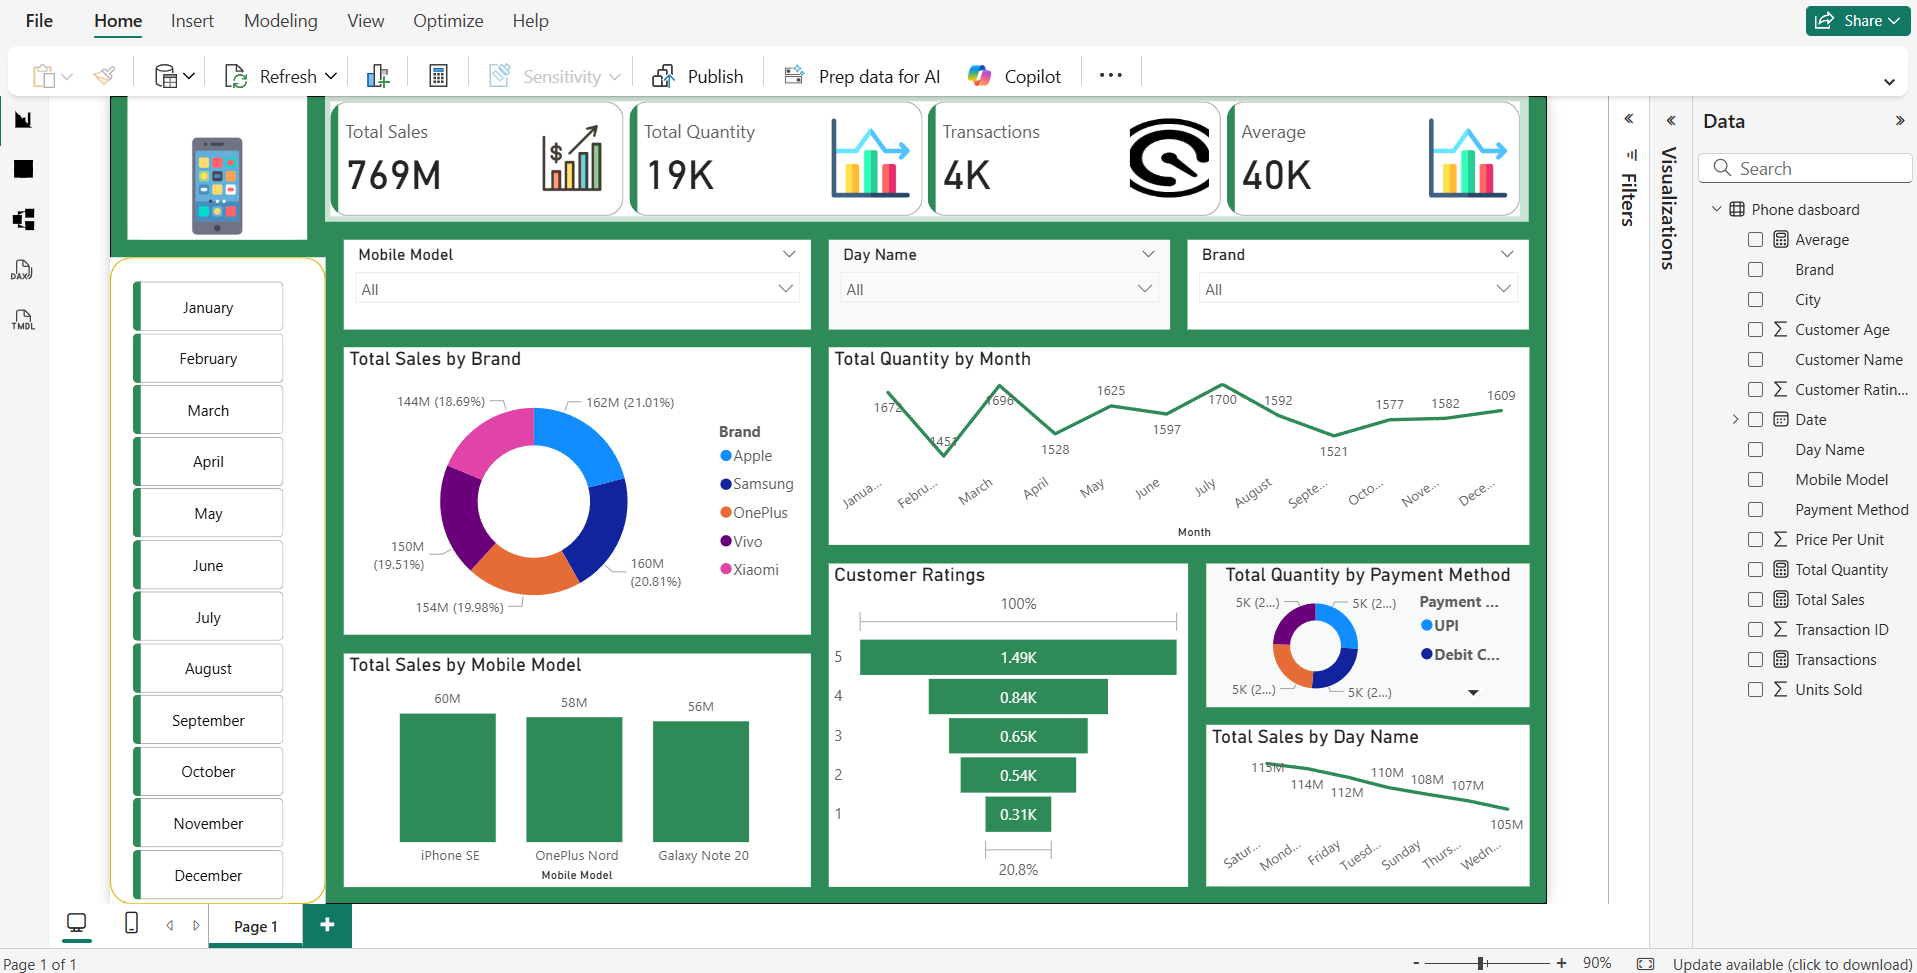

The page's visual inventory and layout, read from the dashboard file:
{"tool":"powerbi","page":{"name":"Page 1","canvas":[1280,720],"ordinal":0},"visuals":[{"type":"shape","box":[0,144,192,576],"z":0},{"type":"advancedSlicerVisual","fields":{"Values":["Phone dasboard.Date .Variation.Date Hierarchy.Month"]},"box":[16,160,144,560],"z":2000},{"type":"cardVisual","fields":{"Data":["Phone dasboard.Total Sales","Phone dasboard.Total Quantity","Phone dasboard.Transactions","Phone dasboard.Average"]},"box":[192,0,1072,112],"z":3000},{"type":"donutChart","fields":{"Category":["Phone dasboard.Brand"],"Y":["Phone dasboard.Total Sales"]},"box":[208,224,416,256],"z":4000},{"type":"lineChart","fields":{"Category":["Phone dasboard.Date .Variation.Date Hierarchy.Month","Phone dasboard.Date .Variation.Date Hierarchy.Day"],"Y":["Phone dasboard.Total Quantity"]},"box":[640,224,624,176],"z":5000},{"type":"columnChart","fields":{"Y":["Phone dasboard.Total Sales"],"Category":["Phone dasboard.Mobile Model"]},"box":[208,496,416,208],"z":6000},{"type":"donutChart","fields":{"Y":["Phone dasboard.Total Quantity"],"Category":["Phone dasboard.Payment Method"]},"box":[976,416,288,128],"z":7000},{"type":"funnel","title":"Customer Ratings","fields":{"Category":["Phone dasboard.Customer Ratings"],"Y":["CountNonNull(Phone dasboard.Customer Name)"]},"box":[640,416,320,288],"z":8000},{"type":"lineChart","fields":{"Y":["Phone dasboard.Total Sales"],"Category":["Phone dasboard.Day Name"]},"box":[976,560,288,144],"z":9000},{"type":"slicer","fields":{"Values":["Phone dasboard.Mobile Model"]},"box":[208,128,416,80],"z":10000},{"type":"slicer","fields":{"Values":["Phone dasboard.Day Name"]},"box":[640,128,304,80],"z":11000},{"type":"slicer","fields":{"Values":["Phone dasboard.Brand"]},"box":[960,128,304,80],"z":12000},{"type":"shape","box":[16,0,160,128],"z":12500},{"type":"image","box":[16,32,160,96],"z":13002}]}

Visuals, with their boxes on the page's 1280x720 design canvas (x1, y1, x2, y2). These are canvas units, not pixel positions in the 1917x973 screenshot, which may show the page scaled, cropped or inside an application window:
shape: 0 144 192 720
advancedSlicerVisual - Phone dasboard.Date .Variation.Date Hierarchy.Month: 16 160 160 720
cardVisual - Phone dasboard.Total Sales x Phone dasboard.Total Quantity: 192 0 1264 112
donutChart - Phone dasboard.Brand x Phone dasboard.Total Sales: 208 224 624 480
lineChart - Phone dasboard.Date .Variation.Date Hierarchy.Month x Phone dasboard.Date .Variation.Date Hierarchy.Day: 640 224 1264 400
columnChart - Phone dasboard.Total Sales x Phone dasboard.Mobile Model: 208 496 624 704
donutChart - Phone dasboard.Total Quantity x Phone dasboard.Payment Method: 976 416 1264 544
"Customer Ratings" funnel: 640 416 960 704
lineChart - Phone dasboard.Total Sales x Phone dasboard.Day Name: 976 560 1264 704
slicer - Phone dasboard.Mobile Model: 208 128 624 208
slicer - Phone dasboard.Day Name: 640 128 944 208
slicer - Phone dasboard.Brand: 960 128 1264 208
shape: 16 0 176 128
image: 16 32 176 128
